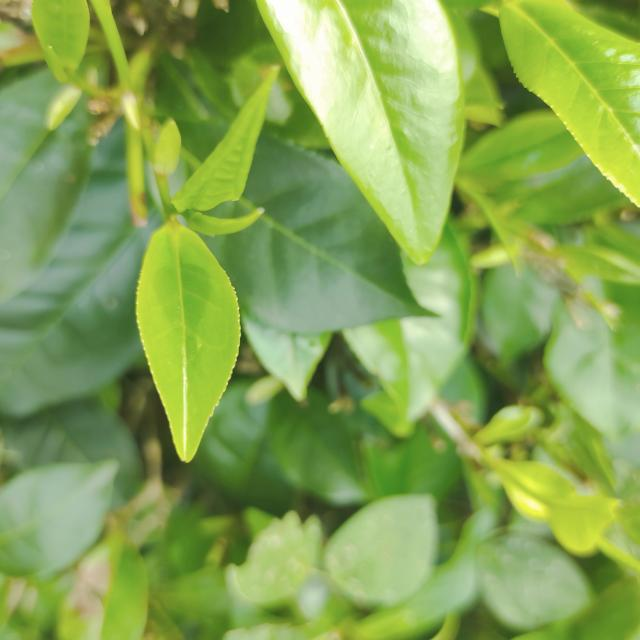unopened_leaf: (176, 199, 271, 242)
